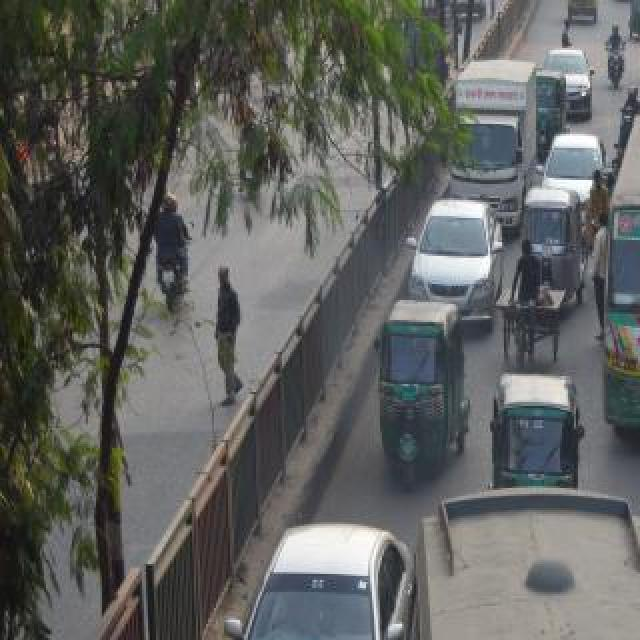bus: (606, 144, 640, 452)
car: (214, 520, 396, 640), (401, 200, 495, 294), (544, 132, 610, 192), (558, 42, 590, 116)
motorbike: (145, 183, 203, 329), (604, 16, 624, 90)
van: (430, 51, 530, 217)
